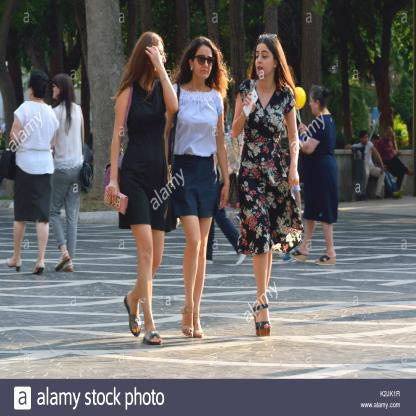person: (110, 31, 176, 346), (234, 32, 300, 336), (168, 38, 230, 338), (7, 67, 56, 274), (45, 73, 86, 272), (298, 83, 340, 268)
